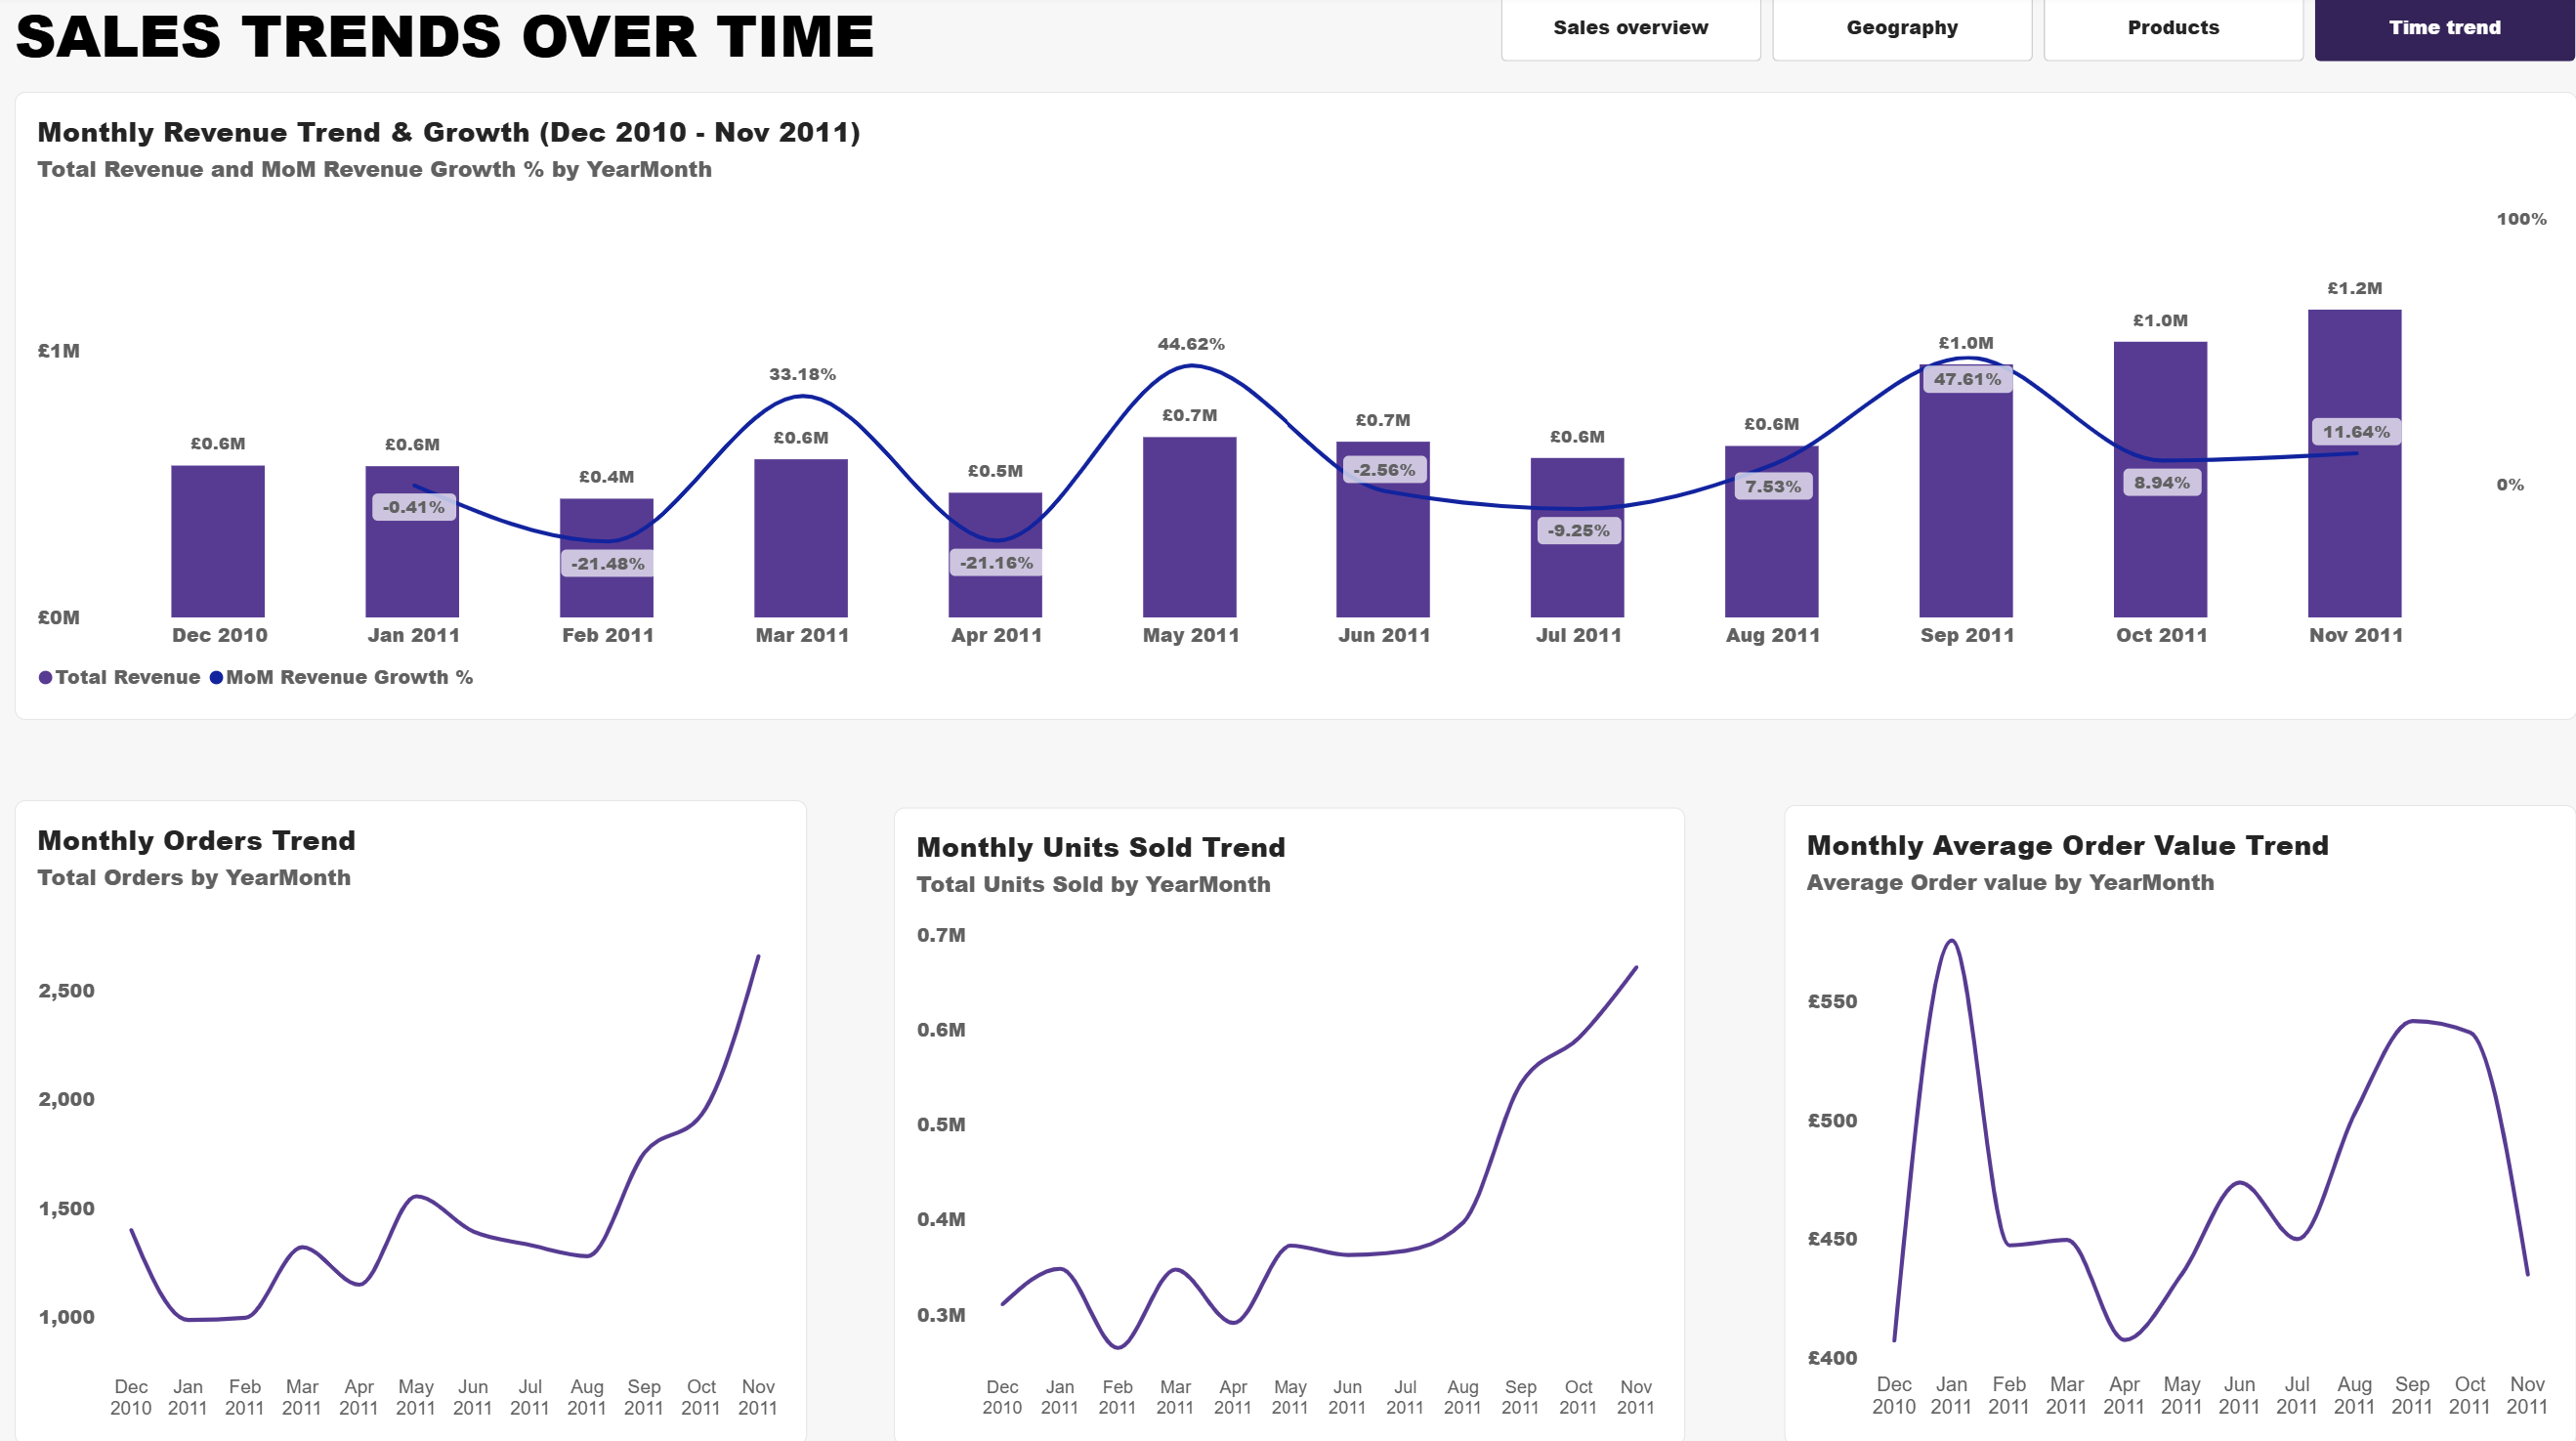

The page's visual inventory and layout, read from the dashboard file:
{"tool":"powerbi","page":{"name":"Time trend","canvas":[1920,1080],"ordinal":3},"visuals":[{"type":"textbox","box":[10.7,0,682.7,72.5],"z":0},{"type":"lineClusteredColumnComboChart","title":"Monthly Revenue Trend & Growth (Dec 2010 - Nov 2011)","fields":{"Category":["DateTable.YearMonth"],"Y":["_measures.Total Revenue"],"Y2":["_measures.MoM Revenue Growth %"]},"box":[10.8,73.6,1908.8,467.5],"z":1000},{"type":"lineChart","title":"Monthly Orders Trend","fields":{"Category":["DateTable.YearMonth"],"Y":["_measures.Total Orders"]},"box":[10.7,600.7,590,480.5],"z":2000},{"type":"lineChart","title":"Monthly Units Sold Trend","fields":{"Category":["DateTable.YearMonth"],"Y":["_measures.Total Units Sold"]},"box":[664.8,606,590,475.2],"z":3000},{"type":"lineChart","title":"Monthly Average Order Value Trend","fields":{"Category":["DateTable.YearMonth"],"Y":["_measures.Average Order value"]},"box":[1329.5,603.3,590,477],"z":4000},{"type":"pageNavigator","box":[1118.9,0,800,50],"z":5000}]}

Visuals, with their boxes in screenshot pixels (x1, y1, x2, y2), scaled from the page's 1920x1080 canvas onto the 2576x1441 screenshot:
textbox: [x1=15, y1=0, x2=930, y2=97]
"Monthly Revenue Trend & Growth (Dec 2010 - Nov 2011)" lineClusteredColumnComboChart: [x1=15, y1=99, x2=2575, y2=722]
"Monthly Orders Trend" lineChart: [x1=15, y1=801, x2=806, y2=1440]
"Monthly Units Sold Trend" lineChart: [x1=892, y1=809, x2=1683, y2=1440]
"Monthly Average Order Value Trend" lineChart: [x1=1784, y1=805, x2=2575, y2=1440]
pageNavigator: [x1=1501, y1=0, x2=2574, y2=66]
